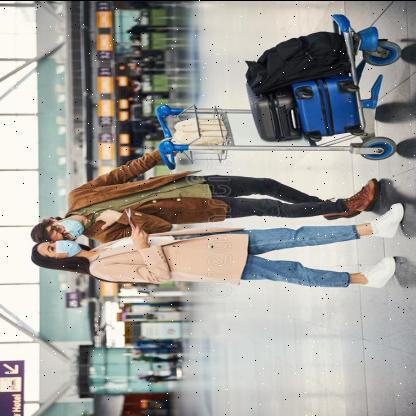airport-trolley: (155, 5, 414, 172)
